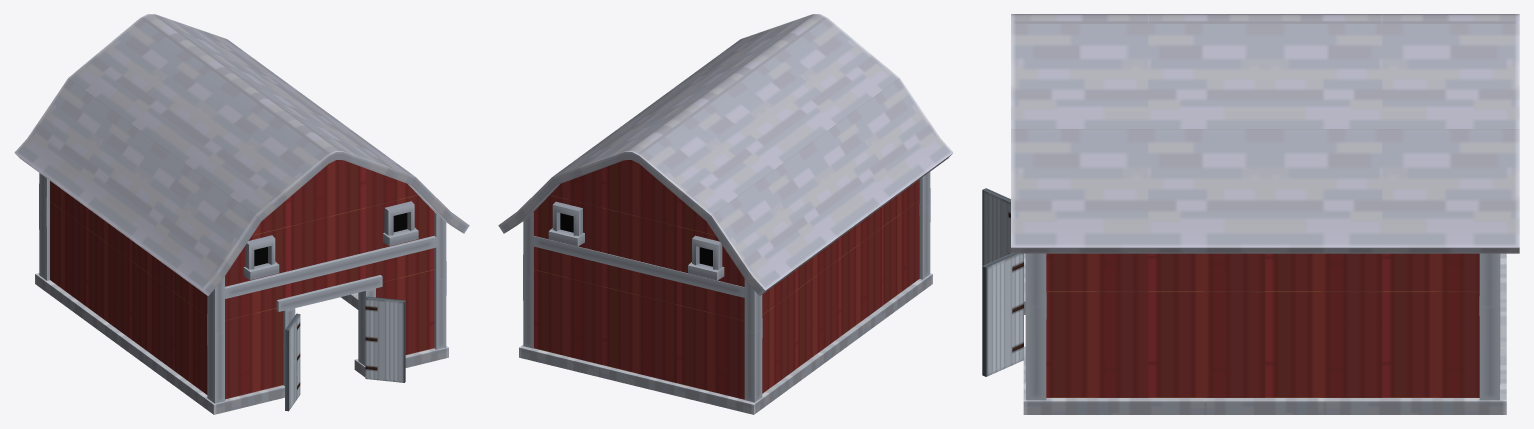
Rendered from barn_004.fbx.
The picture shows the model from 3 angles, left to right: view 1: azimuth 30°, elevation 25°; view 2: azimuth 150°, elevation 25°; view 3: azimuth 270°, elevation 25°; orthographic projection. The views are drawn at different scales.
Parts seen in each view (by area): view 1: barn_004; view 2: barn_004; view 3: barn_004.
Boxes of the visible parts, x1,y1,x2,y2 form: barn_004: [14, 14, 469, 414]; barn_004: [498, 14, 953, 414]; barn_004: [982, 14, 1519, 414].
Size of the model in its own units: 712 by 606 by 918.
